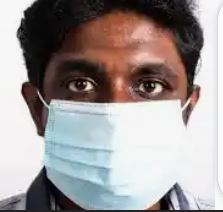with_facemask: (50, 101, 187, 203)
